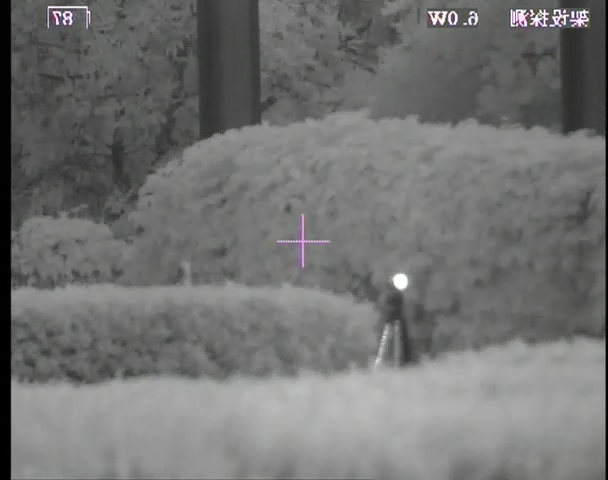my: (391, 272, 409, 291)
